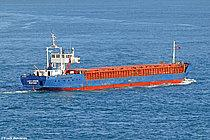Ship: (21, 31, 194, 96)
